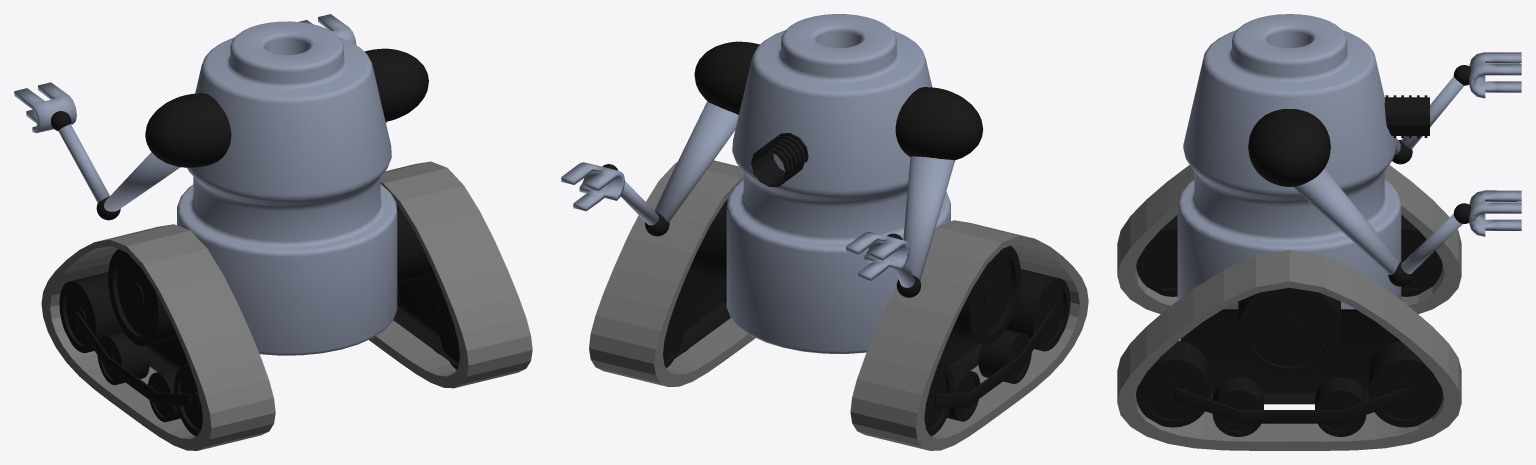
The model's file is Robot Base_Body.fbx.
The picture shows the model from 3 angles, left to right: view 1: azimuth 30°, elevation 25°; view 2: azimuth 150°, elevation 25°; view 3: azimuth 270°, elevation 25°; orthographic projection.
Visible parts, largest first — view 1: Body.008, Tread.003, Shoulder.008, Tread_cog Large.003, Tread_cog.003, Tread_plate.003, Tread_cog small.003, Hand.010, Tread_bar.003, Cylinder.040, Cylinder.041; view 2: Body.008, Tread.003, Shoulder.008, Cylinder.040, Tread_cog Large.003, Tread_cog.003, Hand.010, Tread_plate.003, Tread_cog small.003, Neck.003, Tread_bar.003, Cylinder.041 (+1 smaller); view 3: Body.008, Tread.003, Tread_cog.003, Tread_plate.003, Tread_cog Large.003, Shoulder.008, Hand.010, Tread_cog small.003, Cylinder.040, Tread_bar.003, Cylinder.041, Neck.003 (+2 smaller).
Part boxes in pixels (x1=…): Body.008: x1=177, y1=21, x2=397, y2=355; Tread.003: x1=41, y1=161, x2=532, y2=450; Shoulder.008: x1=145, y1=48, x2=428, y2=167; Tread_cog Large.003: x1=108, y1=203, x2=432, y2=346; Tread_cog.003: x1=59, y1=272, x2=459, y2=436; Tread_plate.003: x1=146, y1=270, x2=458, y2=371; Tread_cog small.003: x1=97, y1=287, x2=440, y2=422; Hand.010: x1=14, y1=14, x2=356, y2=133; Tread_bar.003: x1=75, y1=310, x2=191, y2=406; Cylinder.040: x1=104, y1=121, x2=386, y2=211; Cylinder.041: x1=58, y1=124, x2=109, y2=202; Body.008: x1=726, y1=14, x2=950, y2=353; Tread.003: x1=589, y1=160, x2=1088, y2=450; Shoulder.008: x1=694, y1=41, x2=983, y2=160; Cylinder.040: x1=654, y1=101, x2=954, y2=280; Tread_cog Large.003: x1=690, y1=199, x2=1020, y2=344; Tread_cog.003: x1=663, y1=269, x2=1070, y2=436; Hand.010: x1=561, y1=162, x2=909, y2=280; Tread_plate.003: x1=664, y1=267, x2=981, y2=370; Tread_cog small.003: x1=683, y1=284, x2=1031, y2=421; Neck.003: x1=751, y1=133, x2=808, y2=186; Tread_bar.003: x1=935, y1=309, x2=1052, y2=406; Cylinder.041: x1=621, y1=181, x2=914, y2=287; Body.008: x1=1177, y1=14, x2=1401, y2=309; Tread.003: x1=1117, y1=165, x2=1461, y2=450; Tread_cog.003: x1=1136, y1=215, x2=1442, y2=427; Tread_plate.003: x1=1161, y1=286, x2=1420, y2=404; Tread_cog Large.003: x1=1238, y1=287, x2=1340, y2=377; Shoulder.008: x1=1248, y1=109, x2=1330, y2=186; Hand.010: x1=1469, y1=52, x2=1521, y2=236; Tread_cog small.003: x1=1212, y1=377, x2=1366, y2=436; Cylinder.040: x1=1293, y1=138, x2=1400, y2=274; Tread_bar.003: x1=1175, y1=387, x2=1406, y2=423; Cylinder.041: x1=1401, y1=76, x2=1463, y2=273; Neck.003: x1=1384, y1=95, x2=1429, y2=137.
Size of the model in its own units: 773 by 760 by 832.
